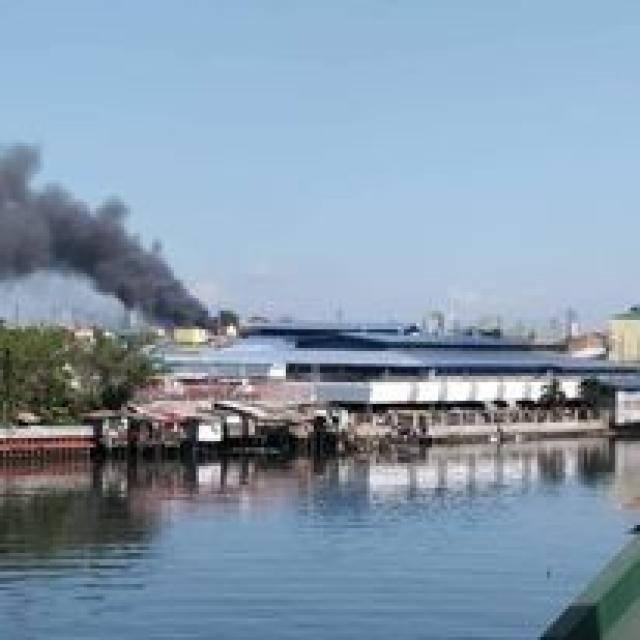Smoke: (0, 130, 242, 329)
